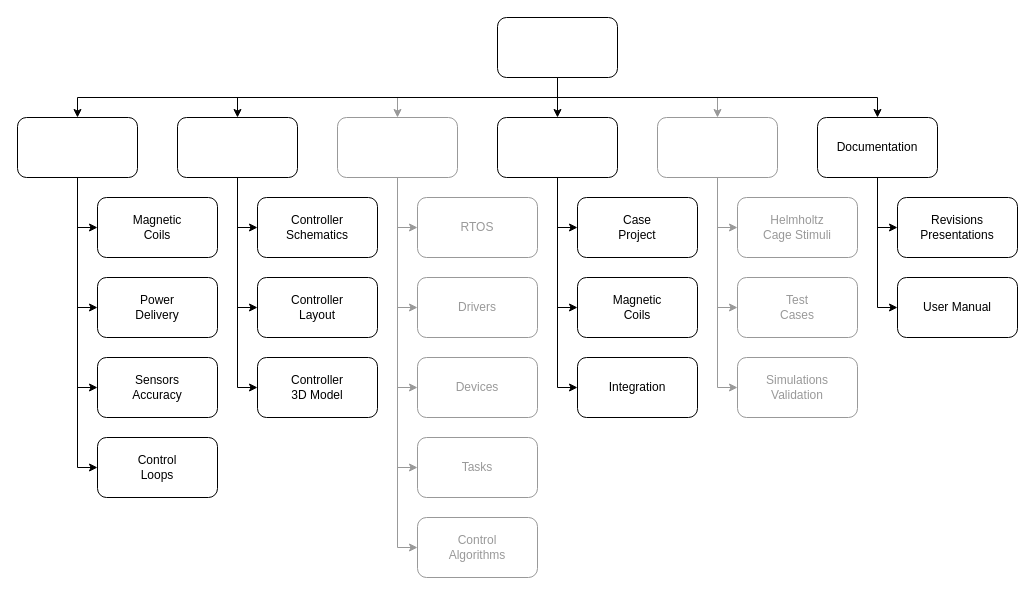
The diagram is 1035 pixels wide and 595 high, and some of its shapes have lost their labels. The shapes that lost their labels are listed below. From the top down, each one's box as (x1, y1, x2, y2) in pixels, then its label:
(496, 16, 618, 78): ADCS Module
(16, 116, 138, 178): Dimensioning
(176, 116, 298, 178): Hardware
(336, 116, 458, 178): Firmware
(496, 116, 618, 178): Mechanical
(656, 116, 778, 178): Validation
